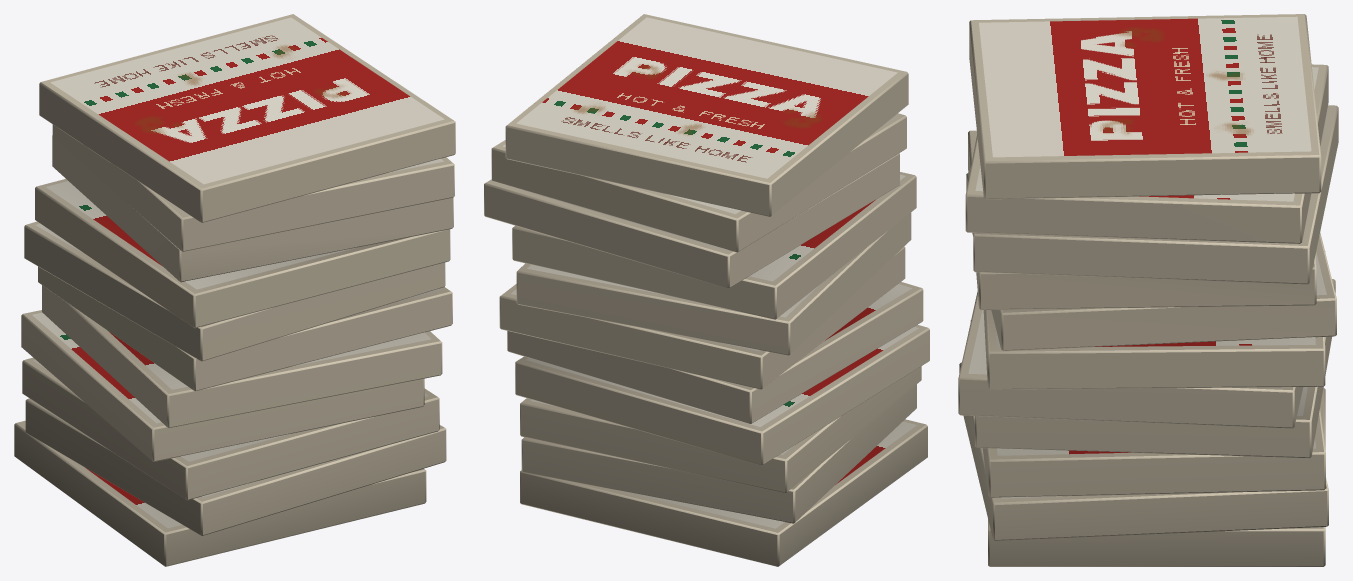
The model's file is pizza_tower.glb.
3 views of the same model, side by side, from view 1: azimuth 30°, elevation 25°; view 2: azimuth 150°, elevation 25°; view 3: azimuth 270°, elevation 25° (orthographic). The views are drawn at different scales.
Parts seen in each view (by area): view 1: body, panels; view 2: body, panels; view 3: body, panels.
Boxes of the visible parts, box(x1,y1,x2,y2) form: body: box(14, 14, 455, 566); panels: box(25, 17, 444, 528); body: box(484, 14, 929, 566); panels: box(503, 17, 918, 528); body: box(958, 14, 1338, 566); panels: box(968, 16, 1328, 498).
Size of what is drawn, in the model's own units: 0.4289 by 0.4956 by 0.4054.
2 materials, 1 textured.
